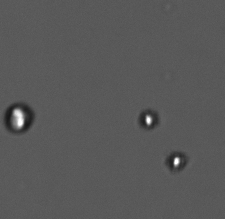Living Cell: (6, 103, 33, 133), (138, 109, 159, 129), (167, 152, 186, 172)
